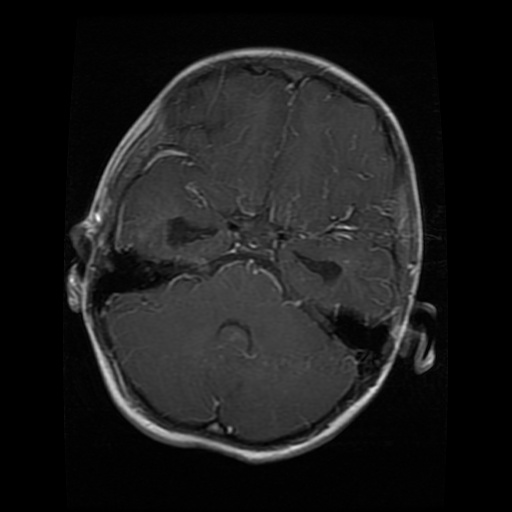glioma: (163, 215, 218, 248)
